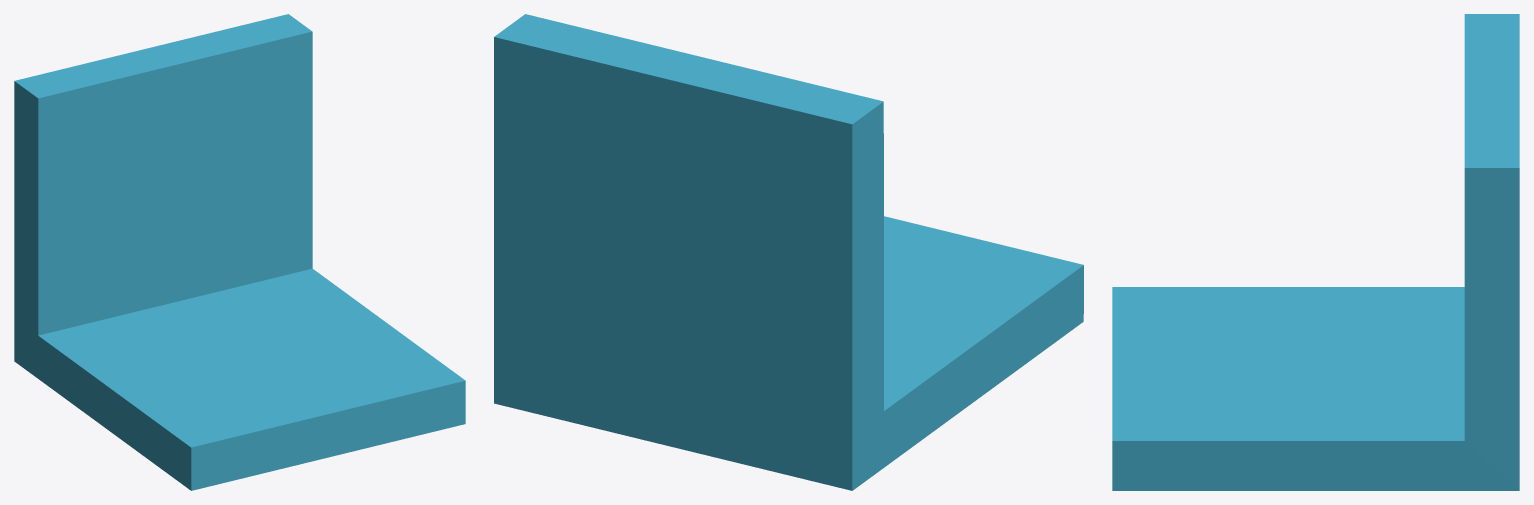
Rendered from Itr_Officechair_Seat_05.FBX.
3 views of the same model, side by side, from view 1: azimuth 30°, elevation 25°; view 2: azimuth 150°, elevation 25°; view 3: azimuth 270°, elevation 25° (orthographic). The views are drawn at different scales.
Parts seen in each view (by area): view 1: Itr_Officechair_Seat_05; view 2: Itr_Officechair_Seat_05; view 3: Itr_Officechair_Seat_05.
Part boxes in pixels (bbox=[...]): Itr_Officechair_Seat_05: bbox=[14, 14, 465, 490]; Itr_Officechair_Seat_05: bbox=[494, 14, 1083, 490]; Itr_Officechair_Seat_05: bbox=[1112, 14, 1519, 490].
Size of the model in its own units: 25.33 by 24.73 by 28.29.
